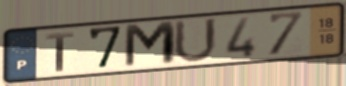4: (223, 15, 259, 59)
7: (267, 10, 307, 59), (87, 25, 124, 72)
M: (122, 19, 179, 71)
T: (44, 30, 76, 73)
U: (171, 16, 220, 66)
